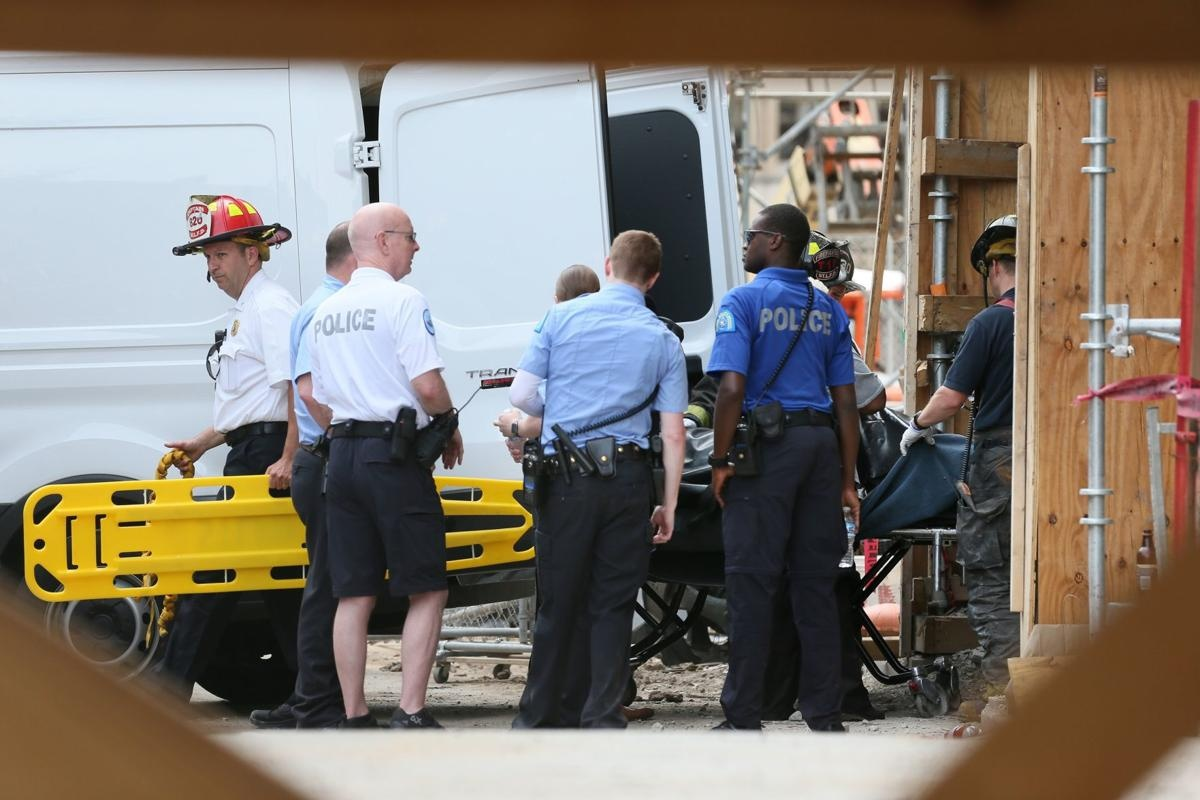none: (348, 203, 417, 281), (740, 203, 811, 276), (606, 229, 661, 292), (322, 221, 364, 283), (553, 265, 601, 303)
red: (195, 197, 265, 292)
yellow: (980, 225, 1019, 298)
